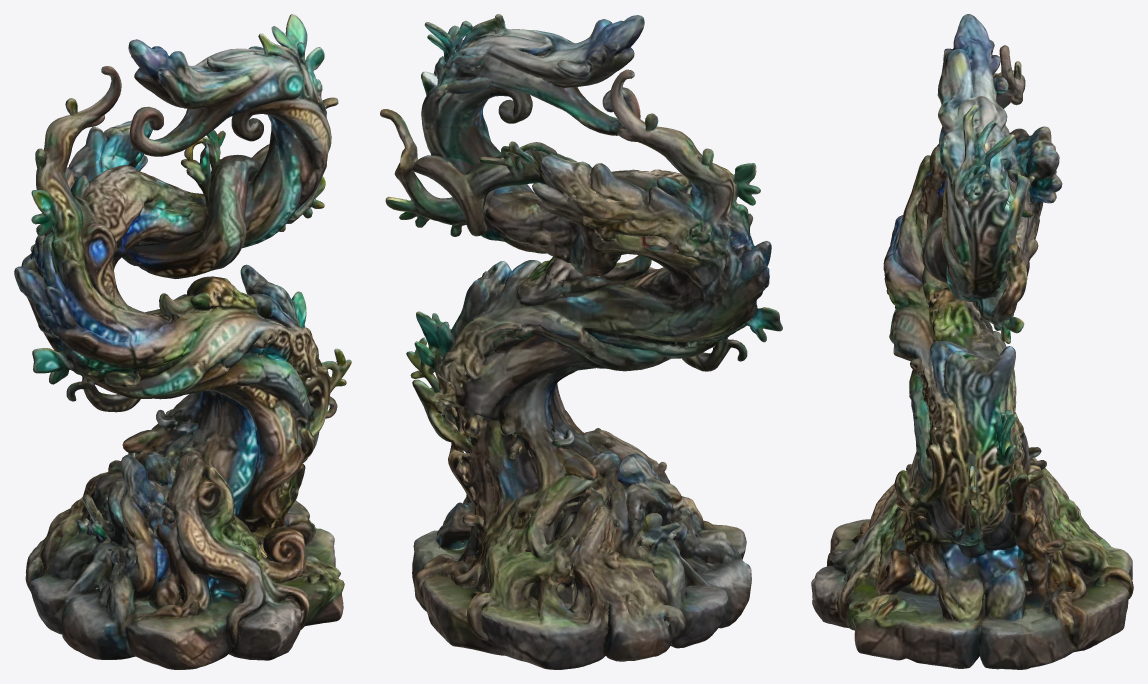
Rendered from tree.glb.
3 views of the same model, side by side, from view 1: azimuth 30°, elevation 25°; view 2: azimuth 150°, elevation 25°; view 3: azimuth 270°, elevation 25° (orthographic). The views are drawn at different scales.
Visible parts, largest first — view 1: geometry_0; view 2: geometry_0; view 3: geometry_0.
Part boxes in pixels (x1,y1,x2,y2): geometry_0: (14, 14, 351, 669); geometry_0: (380, 14, 782, 669); geometry_0: (811, 14, 1133, 669).
Size of the model in its own units: 0.2192 by 0.35 by 0.179.
Materials: 1 (1 with a texture image).
